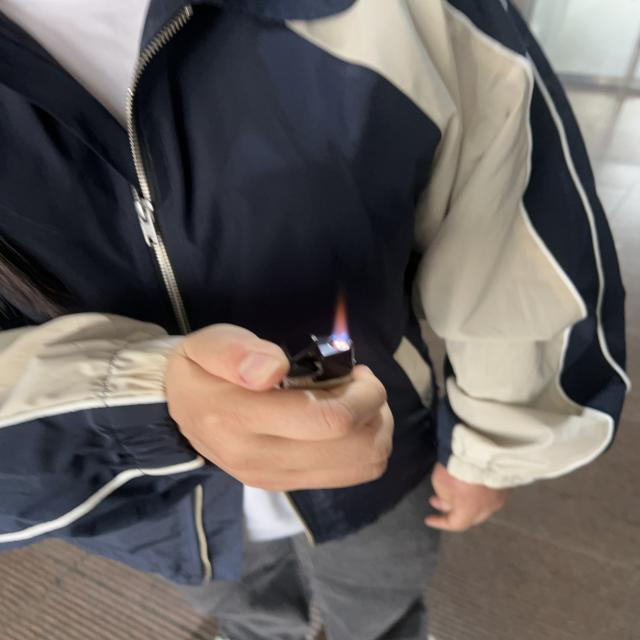fire: (336, 296, 350, 354)
